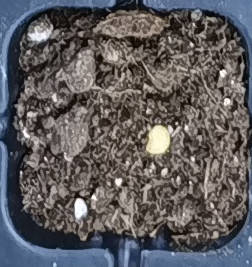pepper seed: (59, 47, 231, 202)
